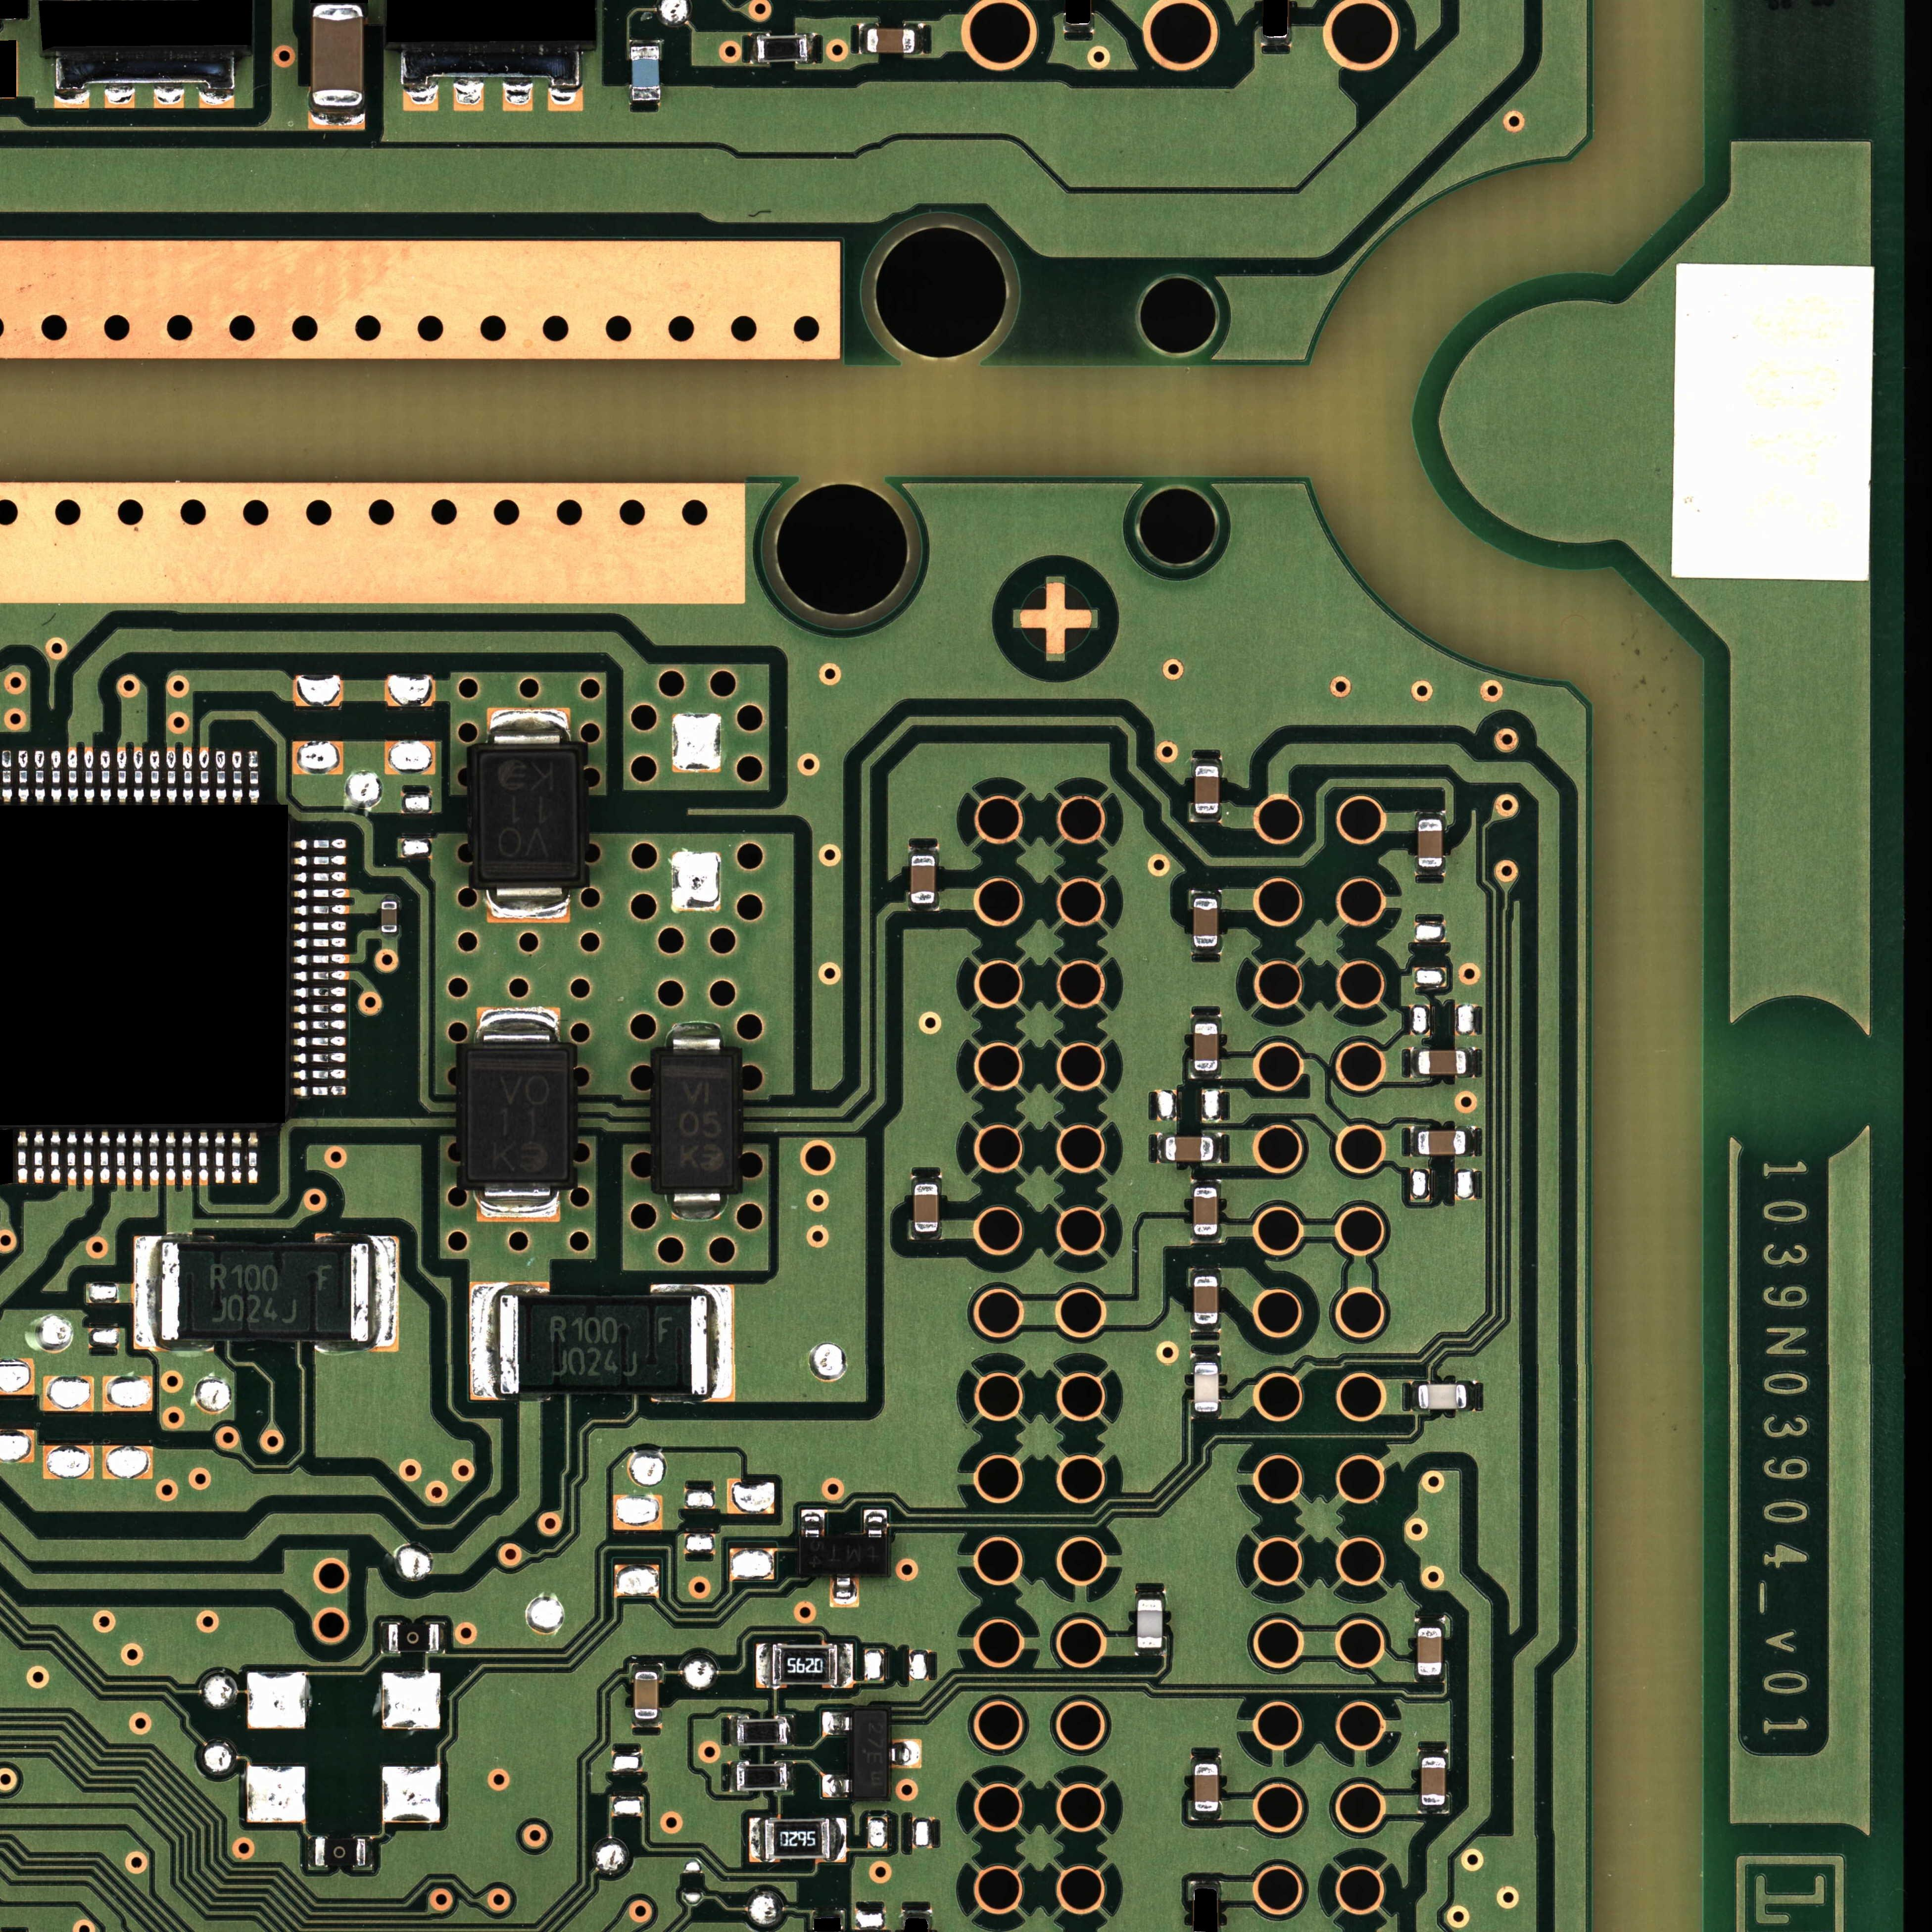Package: (163, 1240, 370, 1341), (501, 1295, 708, 1396), (467, 1051, 570, 1180), (479, 752, 577, 878), (660, 1056, 734, 1187), (311, 5, 363, 106), (800, 1536, 888, 1576), (853, 1711, 888, 1798), (764, 1819, 830, 1859), (773, 1645, 837, 1686), (632, 48, 660, 99), (389, 1624, 439, 1652), (315, 1838, 364, 1867), (736, 1764, 787, 1790), (757, 35, 807, 62), (1419, 1384, 1467, 1410), (738, 1720, 787, 1744), (867, 28, 915, 53), (911, 856, 936, 904), (1417, 819, 1442, 867), (1194, 766, 1219, 814), (1192, 899, 1217, 947), (1417, 1628, 1442, 1675), (1421, 1757, 1445, 1805), (1194, 1364, 1219, 1412), (1194, 1764, 1219, 1812), (1417, 1131, 1465, 1155), (1166, 1136, 1214, 1161), (1194, 1276, 1219, 1323), (1138, 1599, 1162, 1647), (915, 1184, 938, 1231), (1419, 1051, 1467, 1074), (1194, 1023, 1217, 1070), (1194, 1187, 1217, 1235), (635, 1672, 658, 1718)
Solder: (402, 50, 582, 110), (55, 58, 234, 108), (487, 878, 570, 924), (469, 1281, 501, 1399), (476, 1007, 561, 1051), (487, 708, 570, 752), (476, 1180, 559, 1221), (370, 1237, 398, 1350), (134, 1237, 163, 1348), (708, 1284, 732, 1401), (667, 1023, 722, 1056), (671, 1189, 722, 1221), (310, 106, 364, 129), (886, 1739, 922, 1767), (830, 1576, 858, 1606), (823, 1711, 853, 1736), (748, 1817, 764, 1863), (830, 1817, 846, 1863), (755, 1644, 771, 1688), (823, 1775, 853, 1798), (198, 1132, 211, 1185), (801, 1509, 824, 1537), (839, 1644, 853, 1688), (200, 747, 211, 805), (863, 1509, 886, 1536), (294, 904, 350, 915), (65, 1131, 76, 1185), (67, 748, 78, 803), (83, 748, 94, 803), (117, 748, 127, 803), (166, 748, 177, 803), (182, 748, 193, 803), (292, 839, 347, 849), (294, 888, 349, 899), (294, 971, 349, 982), (34, 1131, 44, 1184), (50, 1131, 60, 1184), (83, 1132, 94, 1185), (101, 1131, 111, 1184), (117, 1132, 127, 1185), (133, 1132, 143, 1185), (149, 1132, 159, 1185), (165, 1132, 175, 1185), (182, 1132, 193, 1185), (2, 750, 12, 803), (18, 750, 28, 803), (35, 750, 46, 803), (51, 750, 62, 803), (101, 750, 111, 803), (150, 750, 161, 803), (216, 750, 226, 803), (232, 750, 242, 803), (294, 856, 347, 867), (294, 872, 347, 883), (294, 922, 347, 932), (294, 938, 347, 948), (294, 1003, 347, 1014), (294, 987, 347, 998), (294, 1037, 347, 1047), (294, 1053, 347, 1063), (292, 1069, 345, 1079), (294, 1086, 347, 1097), (18, 1131, 28, 1182), (248, 1132, 258, 1184), (134, 748, 143, 803), (294, 955, 349, 964), (249, 750, 258, 803), (294, 1021, 347, 1030), (216, 1132, 225, 1184), (232, 1132, 241, 1184), (1417, 1805, 1449, 1815), (1415, 1617, 1445, 1628), (1191, 1879, 1221, 1890), (902, 1907, 932, 1918), (1189, 814, 1223, 823), (915, 23, 924, 55), (1191, 947, 1223, 955), (1157, 1132, 1166, 1164), (1189, 1267, 1221, 1276), (1214, 1132, 1223, 1164), (1417, 1748, 1449, 1757), (1063, 25, 1095, 34), (380, 1622, 389, 1652), (858, 25, 867, 55), (807, 34, 816, 64), (909, 846, 939, 855), (911, 1175, 941, 1184), (911, 1231, 941, 1240), (632, 1720, 662, 1729), (786, 1762, 794, 1792), (632, 1663, 662, 1672), (729, 1716, 738, 1746), (1192, 757, 1223, 766), (1191, 890, 1221, 899), (1415, 810, 1445, 819), (1415, 867, 1445, 876), (1191, 1353, 1221, 1362), (1191, 1014, 1221, 1023), (1191, 1323, 1221, 1332), (1191, 1235, 1221, 1244), (1191, 1178, 1221, 1187), (1191, 1070, 1221, 1079), (1410, 1047, 1419, 1077), (1410, 1382, 1419, 1412), (1191, 1755, 1221, 1764), (1136, 1591, 1166, 1599), (1191, 1812, 1221, 1821), (1415, 1675, 1445, 1684), (814, 1909, 844, 1918), (630, 37, 660, 46), (439, 1622, 446, 1654), (908, 904, 939, 911), (1134, 1649, 1166, 1656), (308, 1836, 315, 1867), (366, 1836, 373, 1867), (750, 34, 757, 64), (729, 1762, 736, 1792), (1191, 1412, 1221, 1419), (1410, 1127, 1417, 1157), (1467, 1382, 1474, 1412), (1467, 1127, 1474, 1157), (1467, 1047, 1474, 1077), (632, 101, 662, 108), (1261, 39, 1292, 46), (787, 1716, 794, 1744)
